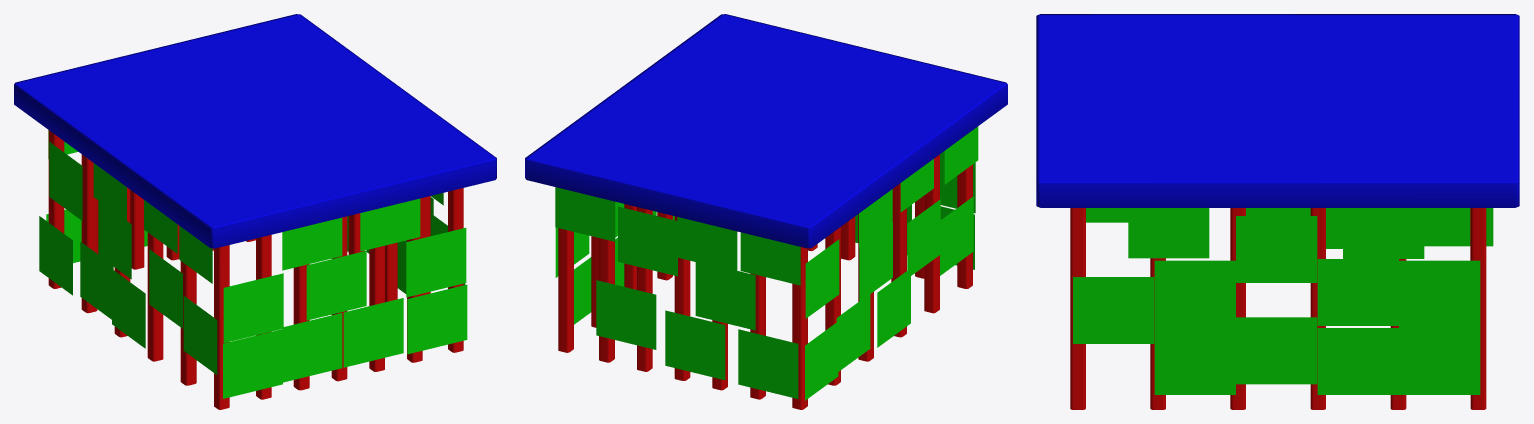
The model's file is Tower_Floor_2.fbx.
3 views of the same model, side by side, from view 1: azimuth 30°, elevation 25°; view 2: azimuth 150°, elevation 25°; view 3: azimuth 270°, elevation 25° (orthographic). The views are drawn at different scales.
Visible parts, largest first — view 1: Floor_2_UV; view 2: Floor_2_UV; view 3: Floor_2_UV.
Part boxes in pixels (x1=…): Floor_2_UV: x1=14, y1=14, x2=496, y2=409; Floor_2_UV: x1=525, y1=14, x2=1007, y2=409; Floor_2_UV: x1=1036, y1=14, x2=1519, y2=409.
Bounding box in the file's own units: 818 × 536 × 985.
